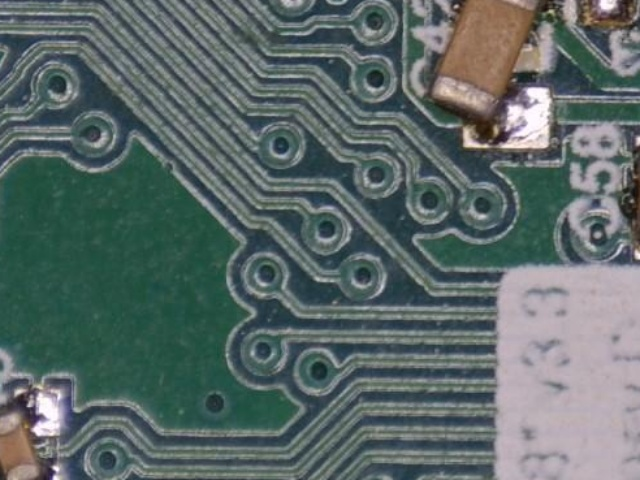pcb_defect: (0, 390, 60, 480)
